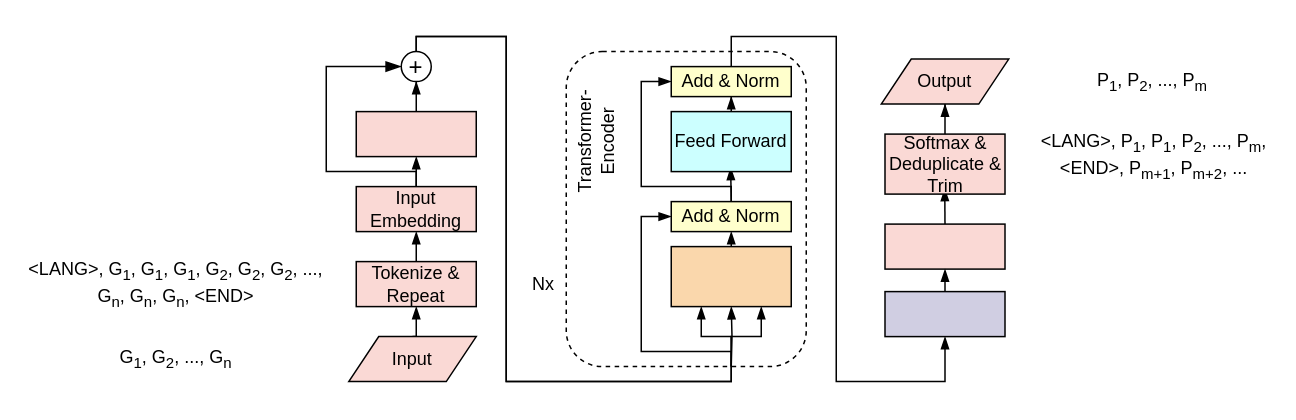
Image size: 1296x420. Some labels were removed from this diagram. The centre of each missing label's shape, as x and y in pixels:
"FC" belongs at point 944,313.
"Multi-Head Attention" belongs at point 730,276.
"Output Embedding" belongs at point 944,246.
"Positional Encoding" belongs at point 415,133.
